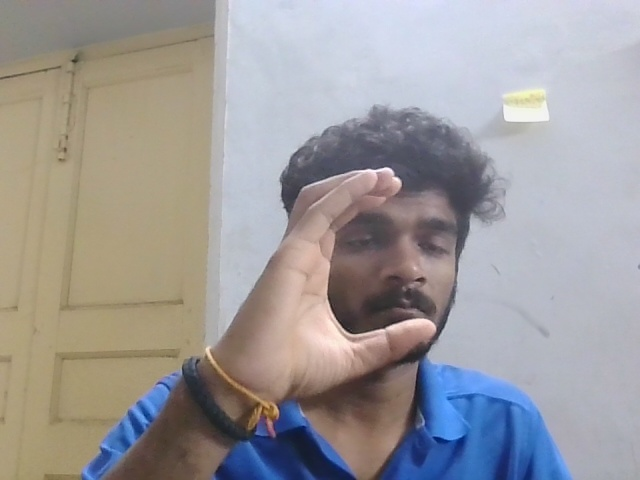No: (238, 156, 449, 400)
